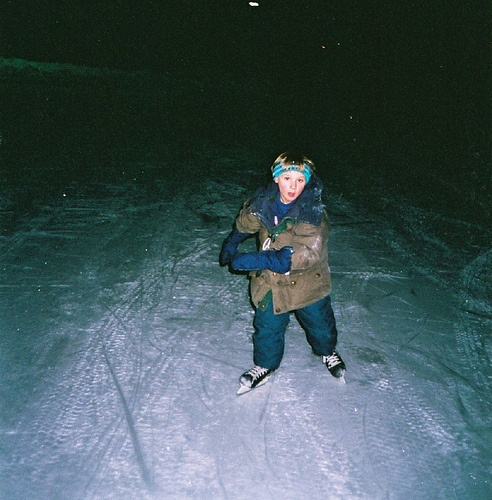head: (275, 152, 313, 201)
person: (220, 144, 351, 398)
